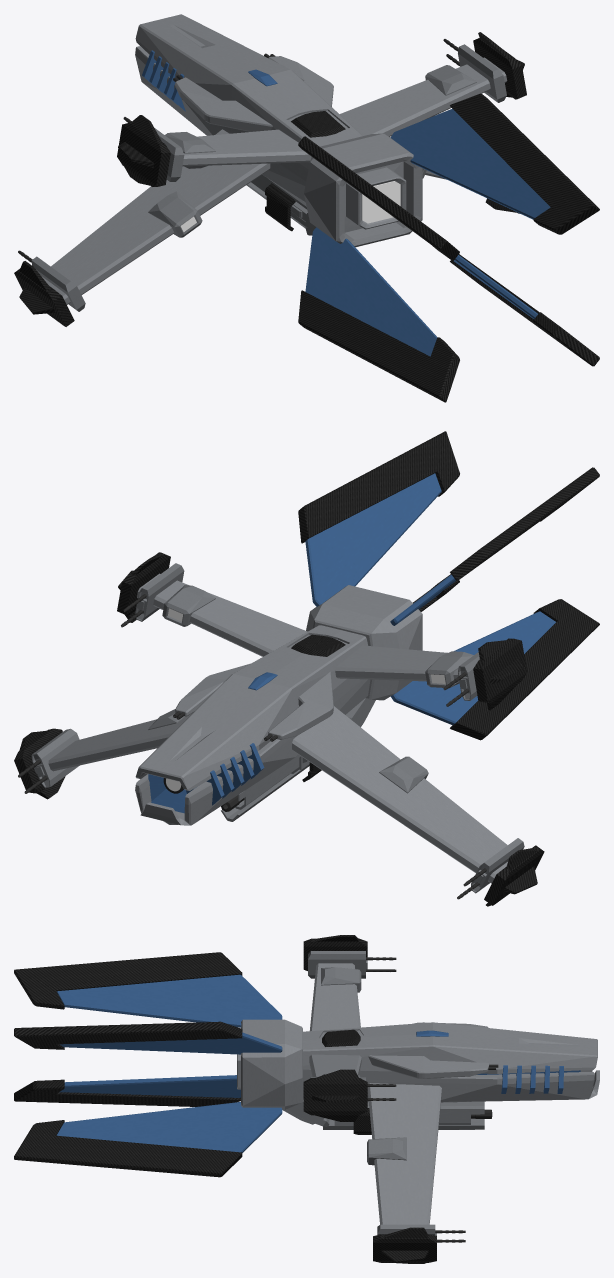
The model's file is ship_01.glb.
3 views of the same model, one above another, from view 1: azimuth 30°, elevation 25°; view 2: azimuth 150°, elevation 25°; view 3: azimuth 270°, elevation 25° (orthographic). The views are drawn at different scales.
Visible parts, largest first — view 1: 전투기.089, 전투기.003, 전투기.073, 꼬리날개.001, 꼬리날개.003, 꼬리날개 외곽.003, 꼬리날개 외곽.006, 전투기.017, 전투기.002, 전투기.063, 꼬리날개 외곽.001, 전투기.021 (+16 smaller); view 2: 전투기.089, 전투기.003, 꼬리날개.001, 꼬리날개 외곽.006, 전투기.073, 꼬리날개 외곽.003, 전투기.017, 꼬리날개.003, 전투기.018, 전투기.002, 전투기.063, 꼬리날개 외곽.001 (+16 smaller); view 3: 전투기.089, 전투기.018, 꼬리날개, 꼬리날개.002, 꼬리날개 외곽.002, 꼬리날개 외곽.001, 전투기.073, 꼬리날개 외곽.006, 꼬리날개.003, 전투기.004, 꼬리날개 외곽.003, 전투기.002 (+13 smaller).
Part boxes in pixels (left/top/right/bottom): 전투기.089: left=135, top=14, right=362, bottom=201; 전투기.003: left=41, top=129, right=270, bottom=304; 전투기.073: left=304, top=133, right=422, bottom=247; 꼬리날개.001: left=390, top=108, right=550, bottom=219; 꼬리날개.003: left=305, top=227, right=437, bottom=356; 꼬리날개 외곽.003: left=298, top=290, right=459, bottom=402; 꼬리날개 외곽.006: left=450, top=93, right=599, bottom=234; 전투기.017: left=339, top=57, right=507, bottom=136; 전투기.002: left=182, top=129, right=311, bottom=166; 전투기.063: left=117, top=115, right=170, bottom=186; 꼬리날개 외곽.001: left=298, top=136, right=459, bottom=260; 전투기.021: left=175, top=77, right=272, bottom=131; 전투기.089: left=135, top=625, right=370, bottom=825; 전투기.003: left=292, top=706, right=507, bottom=883; 꼬리날개.001: left=305, top=473, right=441, bottom=606; 꼬리날개 외곽.006: left=298, top=431, right=459, bottom=543; 전투기.073: left=306, top=585, right=422, bottom=700; 꼬리날개 외곽.003: left=450, top=599, right=599, bottom=740; 전투기.017: left=137, top=573, right=307, bottom=656; 꼬리날개.003: left=390, top=611, right=555, bottom=725; 전투기.018: left=34, top=712, right=193, bottom=773; 전투기.002: left=335, top=645, right=459, bottom=682; 전투기.063: left=473, top=638, right=526, bottom=710; 꼬리날개 외곽.001: left=450, top=467, right=599, bottom=580; 전투기.089: left=303, top=1022, right=599, bottom=1102; 전투기.018: left=367, top=1083, right=441, bottom=1224; 꼬리날개: left=56, top=974, right=282, bottom=1027; 꼬리날개.002: left=56, top=1102, right=282, bottom=1152; 꼬리날개 외곽.002: left=14, top=1120, right=242, bottom=1177; 꼬리날개 외곽.001: left=14, top=952, right=242, bottom=1009; 전투기.073: left=237, top=1019, right=302, bottom=1109; 꼬리날개 외곽.006: left=14, top=1021, right=242, bottom=1049; 꼬리날개.003: left=59, top=1075, right=240, bottom=1097; 전투기.004: left=303, top=1069, right=367, bottom=1121; 꼬리날개 외곽.003: left=14, top=1079, right=240, bottom=1106; 전투기.002: left=309, top=963, right=360, bottom=1031.
Bounding box in the file's own units: 21.08 × 9.32 × 26.11.
Materials: 24 (15 with a texture image).
